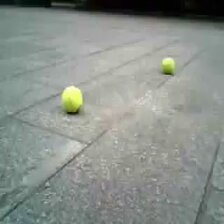tennis: (60, 86, 82, 112), (162, 57, 175, 74)
